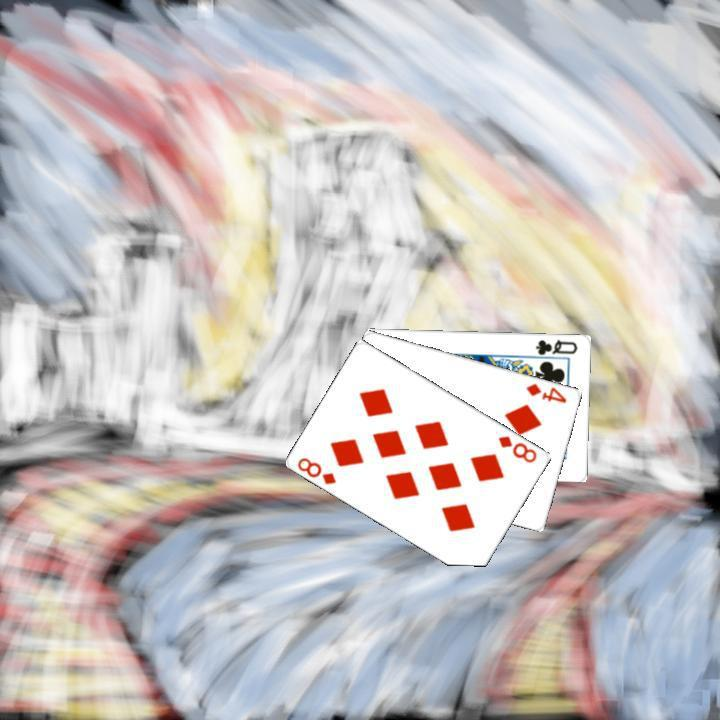4: (522, 378, 569, 405)
8: (494, 431, 539, 465), (293, 453, 338, 486)
Q: (531, 335, 579, 356)
